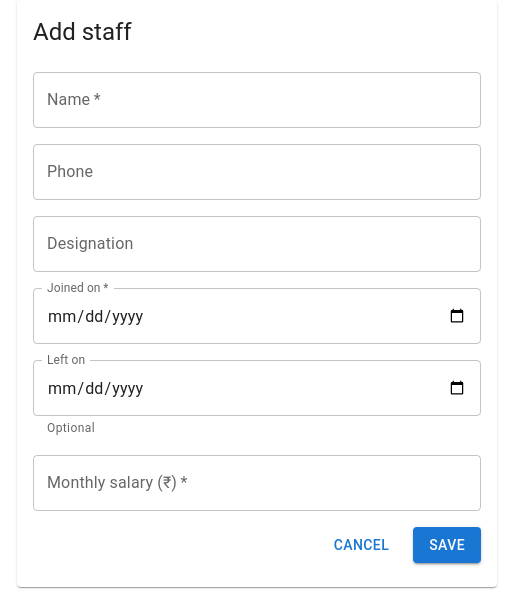
Scenario: rejects a leaving date before the joining date
The width and height of the screenshot is (515, 606).
Type "Ravi" into the field labelled "Name *" at (257, 100), box [33,72,481,128]
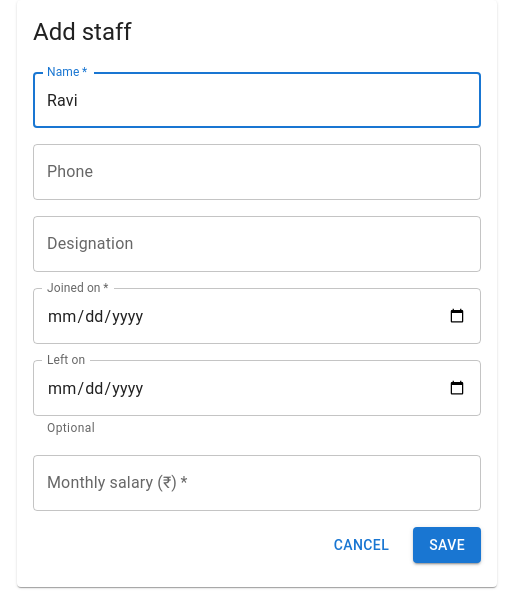
Type "2026-02-01" into the date field labelled "Joined on *" at (257, 316), box [33,288,481,344]
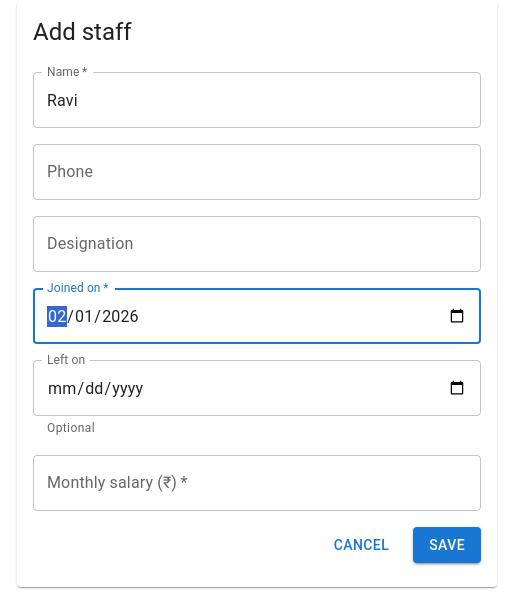
Type "2026-01-01" into the date field labelled "Left on" at (257, 388), box [33,360,481,416]
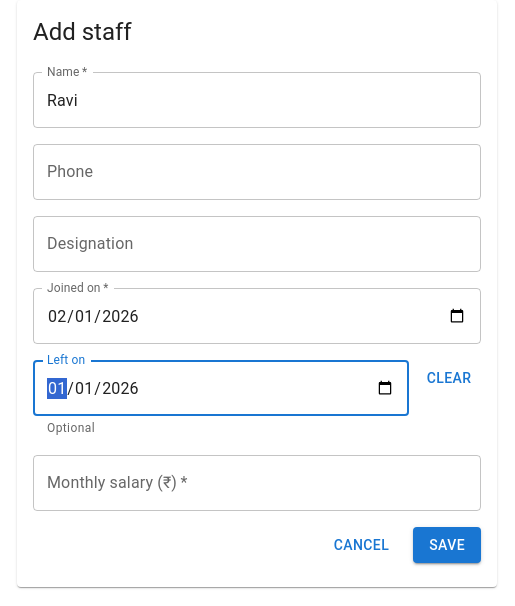
Type "12000" into the number field labelled "Monthly salary (₹) *" at (257, 483), box [33,455,481,511]
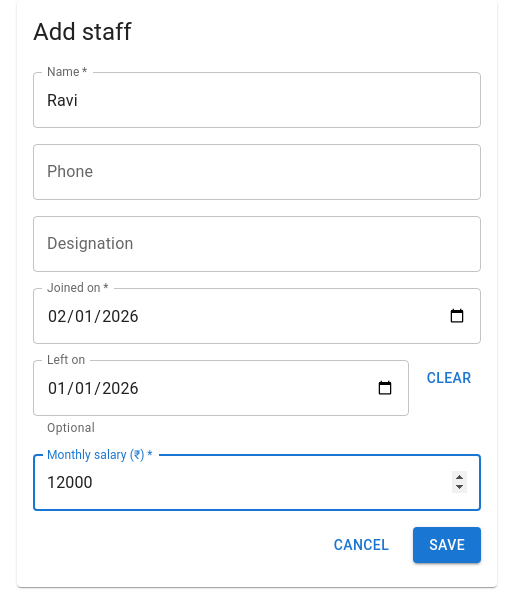
Click the button "Save" at (447, 545), box [413,527,481,563]
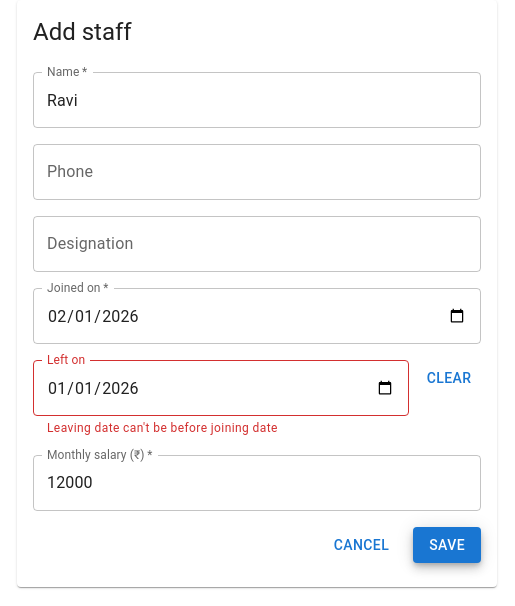
Now the text "Leaving date can't be before joining date" is shown, box [47,421,278,435]
